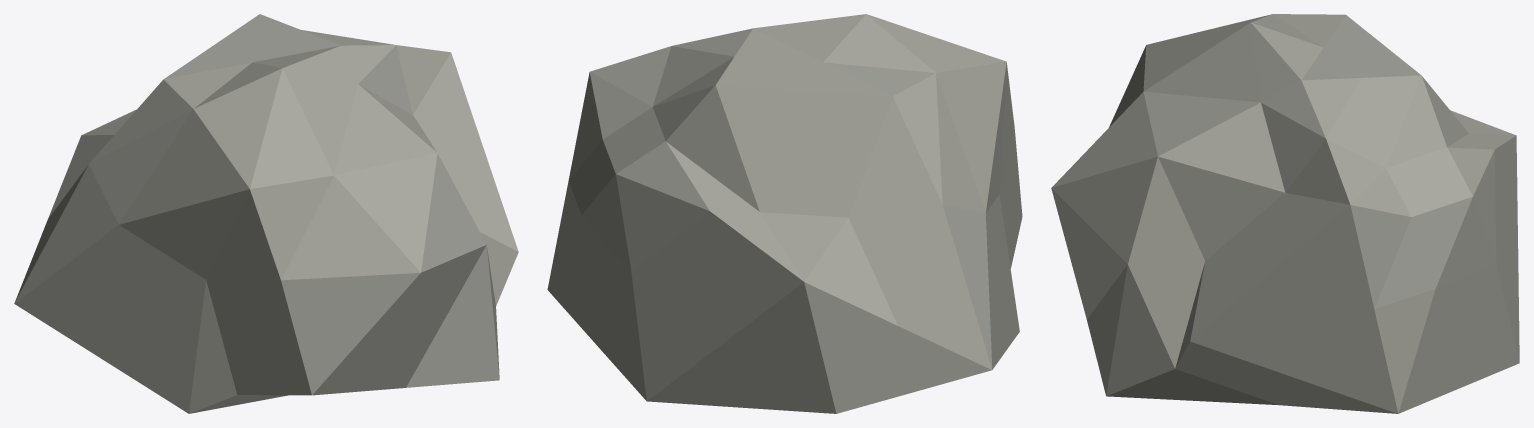
File: Rock2.fbx
The picture shows the model from 3 angles, left to right: view 1: azimuth 30°, elevation 25°; view 2: azimuth 150°, elevation 25°; view 3: azimuth 270°, elevation 25°; orthographic projection. The views are drawn at different scales.
Parts seen in each view (by area): view 1: Rock2; view 2: Rock2; view 3: Rock2.
Part boxes in pixels (x1,y1,x2,y2): Rock2: (14, 14, 518, 413); Rock2: (547, 14, 1022, 413); Rock2: (1051, 14, 1519, 413).
Bounding box in the file's own units: 109 × 71.84 × 101.
